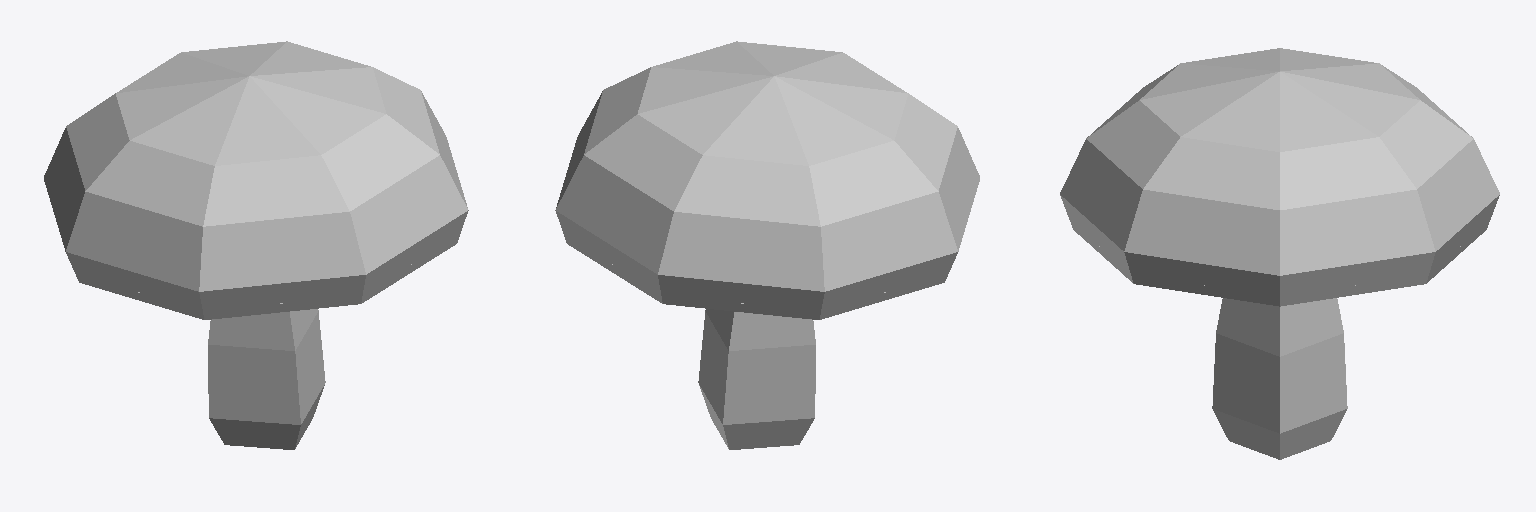
File: mushroom type 3.obj
3 views of the same model, side by side, from view 1: azimuth 30°, elevation 25°; view 2: azimuth 150°, elevation 25°; view 3: azimuth 270°, elevation 25° (orthographic).
Parts seen in each view (by area): view 1: mushroom_1_Mesh polySurface6; view 2: mushroom_1_Mesh polySurface6; view 3: mushroom_1_Mesh polySurface6.
Part boxes in pixels (left/top/right/bottom): mushroom_1_Mesh polySurface6: left=44, top=41, right=468, bottom=449; mushroom_1_Mesh polySurface6: left=555, top=41, right=979, bottom=449; mushroom_1_Mesh polySurface6: left=1060, top=48, right=1499, bottom=459.
Size of the model in its own units: 4.85 by 4.41 by 4.85.